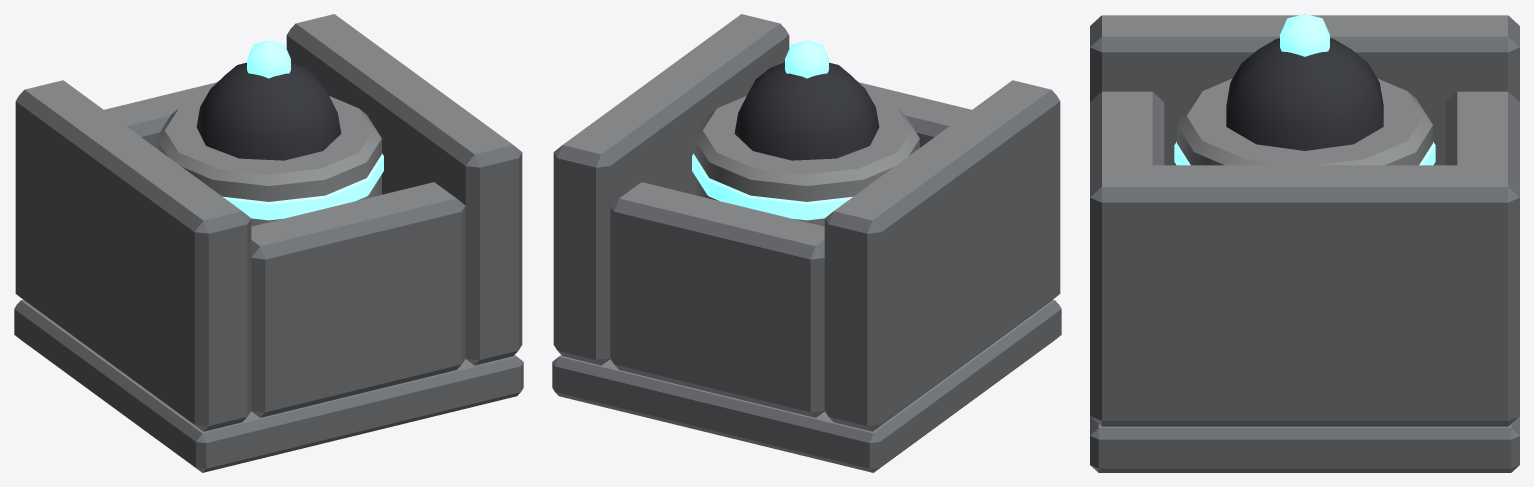
Rendered from R4X_DeployableShieldGenerator_LOD1.glb.
The picture shows the model from 3 angles, left to right: view 1: azimuth 30°, elevation 25°; view 2: azimuth 150°, elevation 25°; view 3: azimuth 270°, elevation 25°; orthographic projection. The views are drawn at different scales.
Parts seen in each view (by area): view 1: R4X_DeployableShieldGenerator_LOD1; view 2: R4X_DeployableShieldGenerator_LOD1; view 3: R4X_DeployableShieldGenerator_LOD1.
Boxes of the visible parts, bbox=[...] form: R4X_DeployableShieldGenerator_LOD1: bbox=[14, 14, 523, 472]; R4X_DeployableShieldGenerator_LOD1: bbox=[552, 14, 1061, 472]; R4X_DeployableShieldGenerator_LOD1: bbox=[1090, 14, 1519, 472].
Bounding box in the file's own units: 0.52 × 0.495 × 0.52.
